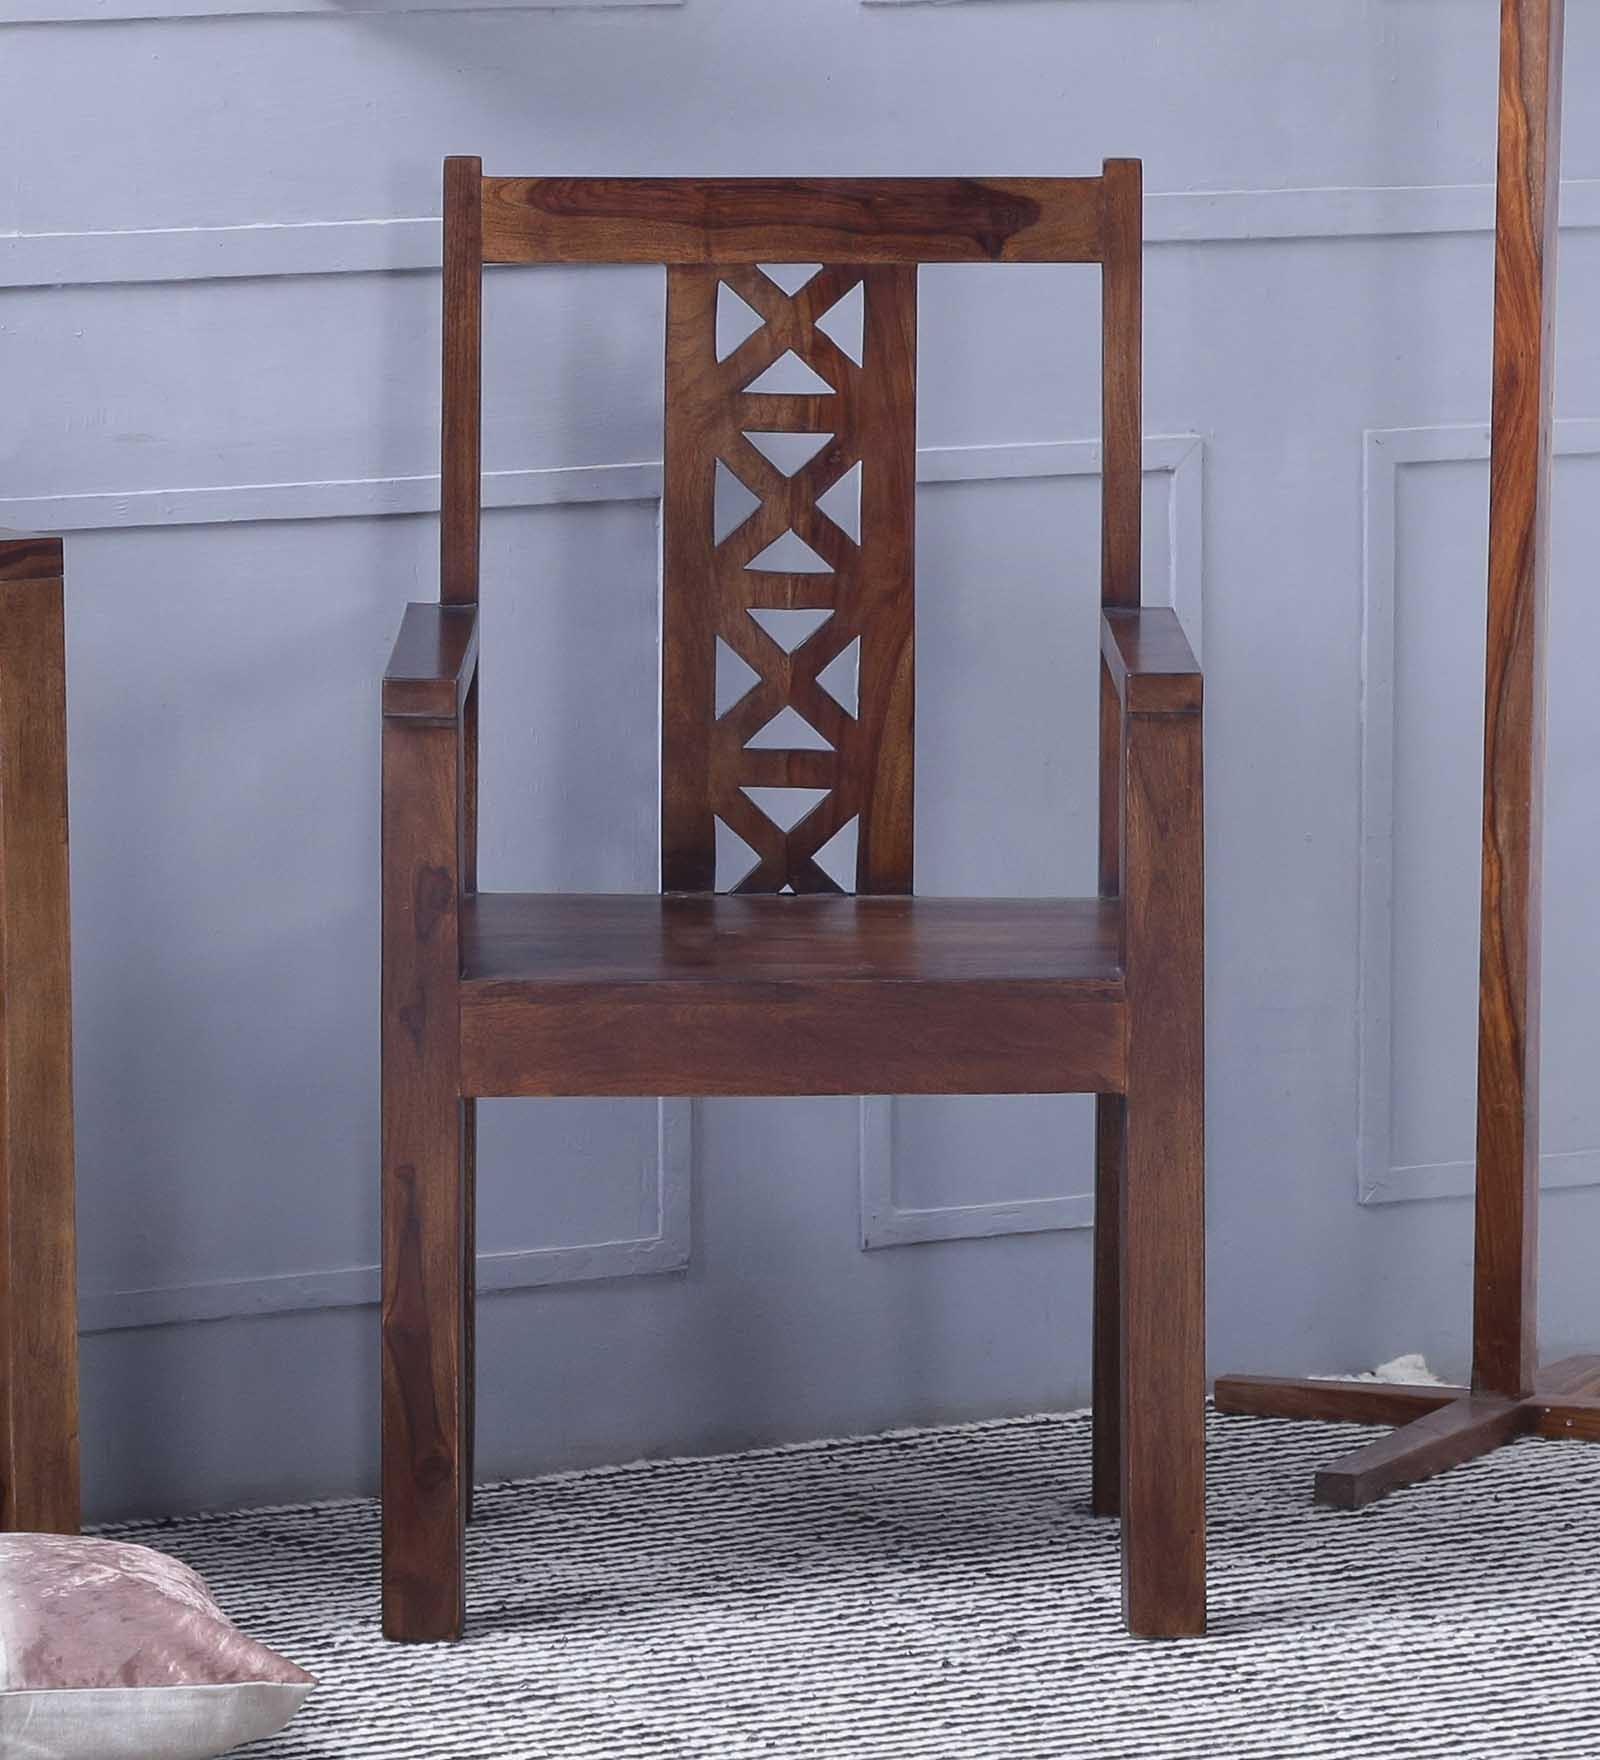Kryss Arm Chair in Provincial Teak Finish by Woodsworth: (331, 136, 1255, 1666)
